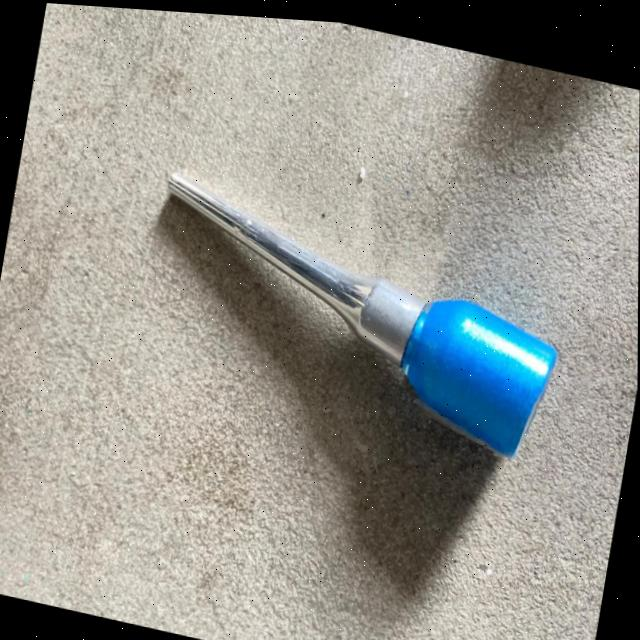nail polish: (119, 129, 589, 489)
